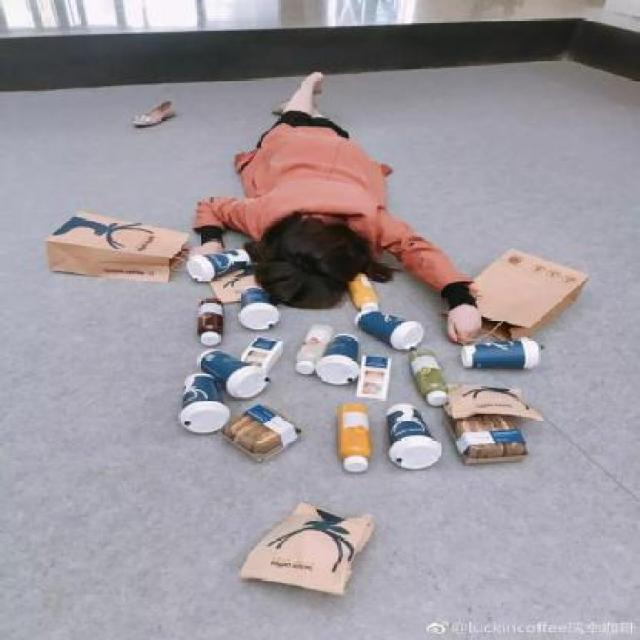fall: (166, 61, 549, 368)
